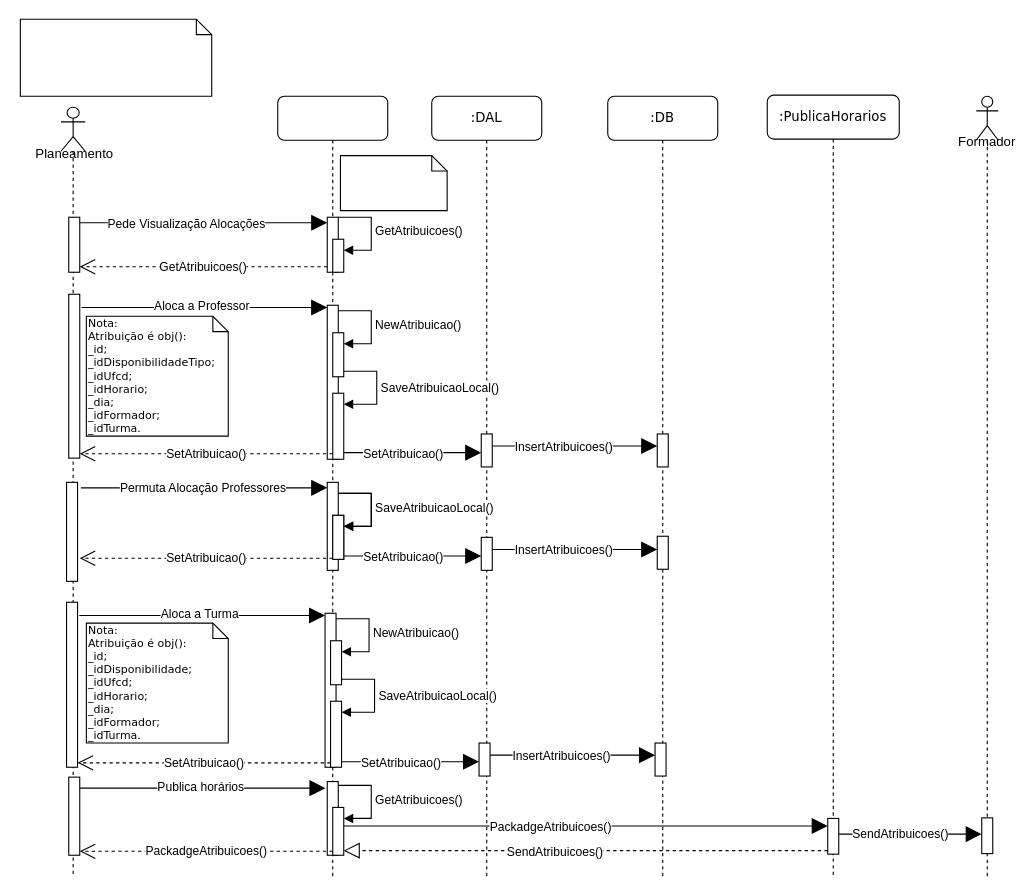
Image size: 1034x895. Some labels were removed from this diagram. The shapes that lost their labels are listed below. From the top down, each one's box as (x1, y1, x2, y2) in pixels, then its label:
(19, 18, 212, 96): Nota: Inicio de sistema carrega info da BD para listas de objetos locais.
(339, 155, 447, 211): Nota: Por Professor OU Turma
(277, 95, 388, 876): :Agenda
